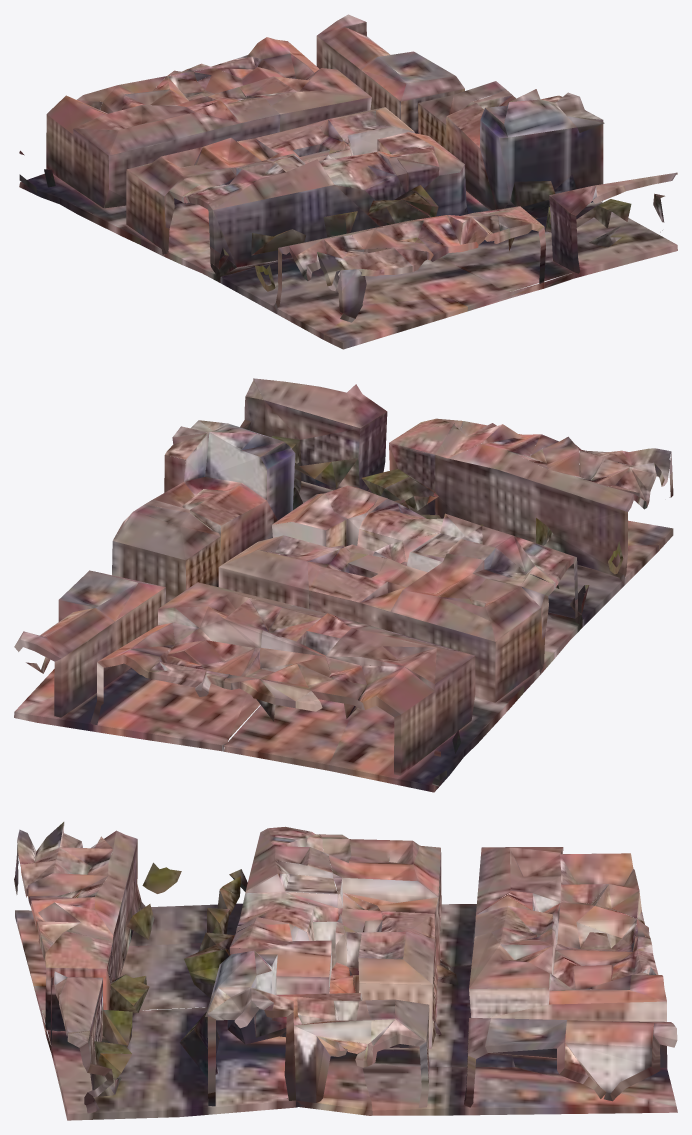
3 renders of one model, top to bottom at view 1: azimuth 30°, elevation 25°; view 2: azimuth 150°, elevation 25°; view 3: azimuth 270°, elevation 25°, orthographic. The views are drawn at different scales.
Visible parts, largest first — view 1: Mesh_0; view 2: Mesh_0; view 3: Mesh_0.
Part boxes in pixels (left/top/right/bottom): Mesh_0: left=19, top=14, right=677, bottom=349; Mesh_0: left=14, top=378, right=673, bottom=792; Mesh_0: left=14, top=822, right=677, bottom=1120.
Bounding box in the file's own units: 135 × 39.9 × 165.
2 materials, 2 textured.
